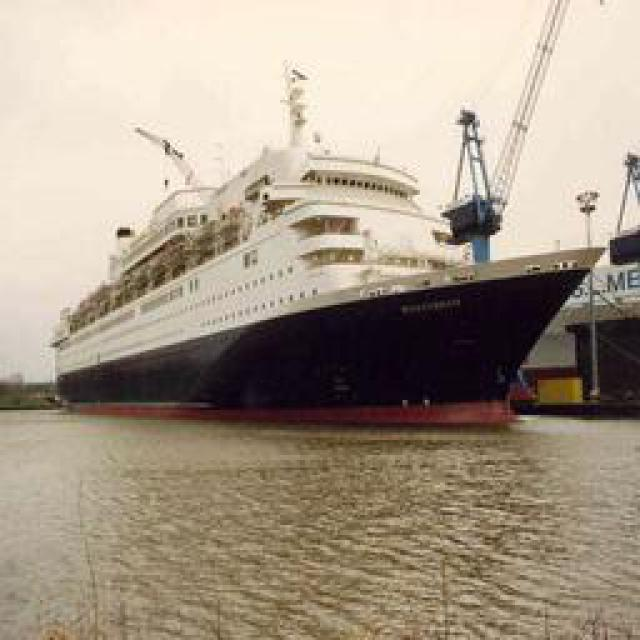Ship: (61, 66, 591, 416)
